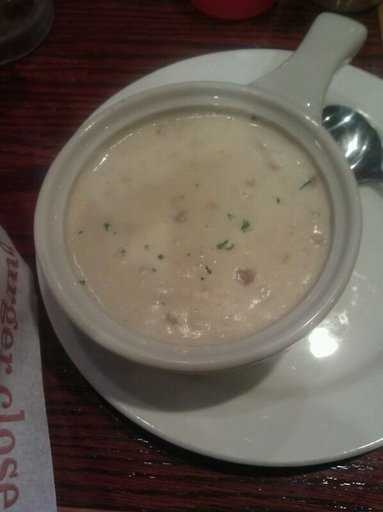soup: (34, 103, 342, 333)
